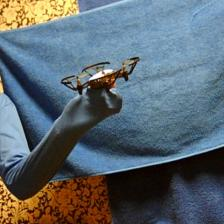drone: (59, 56, 139, 94)
